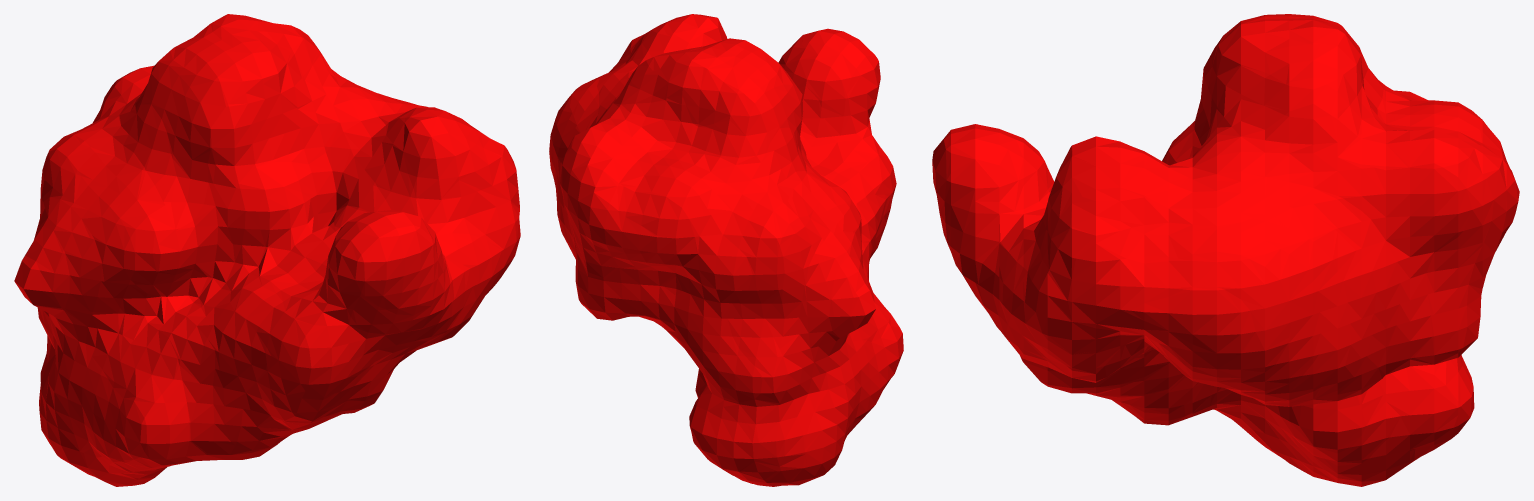
Rendered from Wnt_inhibitory_factor_1_coarse.dae.
3 renders of one model, left to right at view 1: azimuth 30°, elevation 25°; view 2: azimuth 150°, elevation 25°; view 3: azimuth 270°, elevation 25°, orthographic. The views are drawn at different scales.
Visible parts, largest first — view 1: Wnt_inhibitory_factor_1; view 2: Wnt_inhibitory_factor_1; view 3: Wnt_inhibitory_factor_1.
Part boxes in pixels (x1,y1,x2,y2): Wnt_inhibitory_factor_1: [14, 14, 520, 486]; Wnt_inhibitory_factor_1: [549, 14, 903, 486]; Wnt_inhibitory_factor_1: [932, 14, 1519, 486].
Bounding box in the file's own units: 54.65 × 57.07 × 60.
